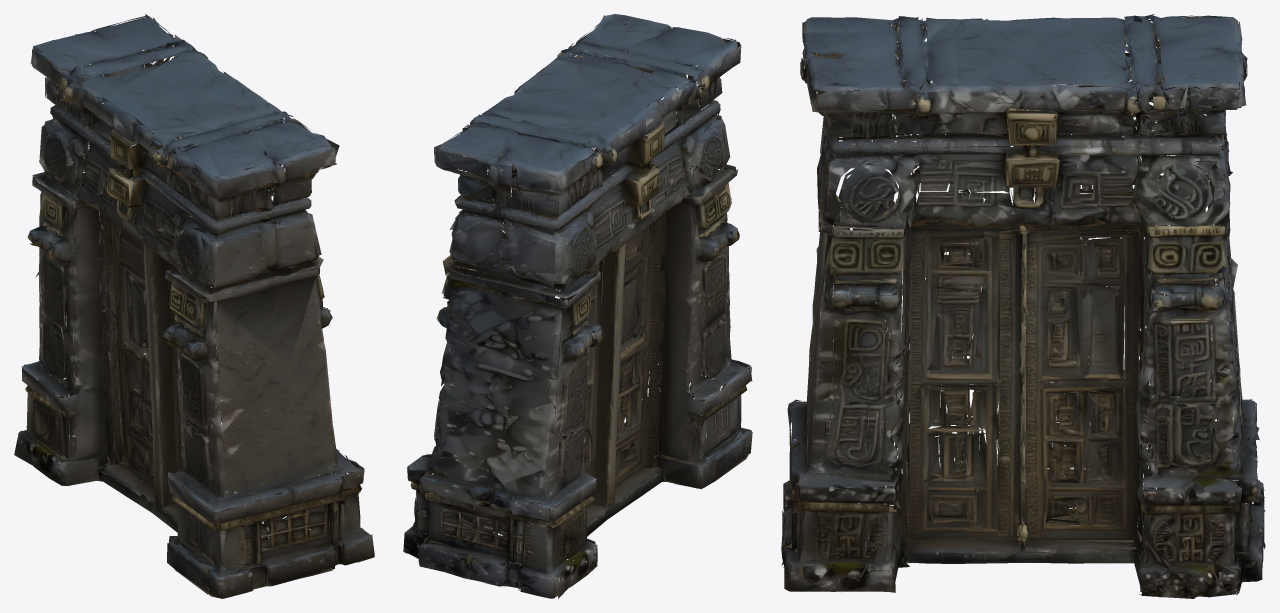
The model's file is ch2_inscribed_vaelor_gate_LOD1.glb.
3 views of the same model, side by side, from view 1: azimuth 30°, elevation 25°; view 2: azimuth 150°, elevation 25°; view 3: azimuth 270°, elevation 25° (orthographic). The views are drawn at different scales.
Visible parts, largest first — view 1: tripo_node_77248afa-edcf-4560-a30d-d174774ffb73; view 2: tripo_node_77248afa-edcf-4560-a30d-d174774ffb73; view 3: tripo_node_77248afa-edcf-4560-a30d-d174774ffb73.
Boxes of the visible parts, x1,y1,x2,y2 form: tripo_node_77248afa-edcf-4560-a30d-d174774ffb73: (14, 14, 374, 598); tripo_node_77248afa-edcf-4560-a30d-d174774ffb73: (403, 14, 752, 598); tripo_node_77248afa-edcf-4560-a30d-d174774ffb73: (781, 14, 1265, 598).
Size of the model in its own units: 0.4347 by 1.01 by 0.8892.
Materials: 1 (1 with a texture image).
